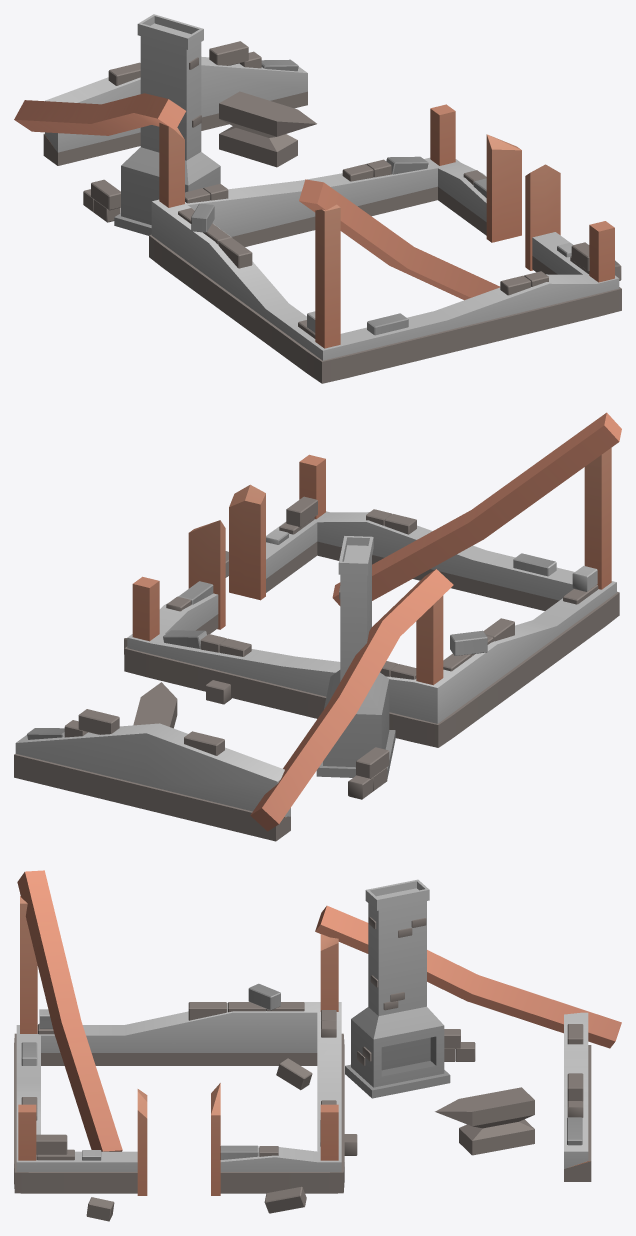
File: [OBJ]Ruina_Ferreiro.fbx
3 renders of one model, top to bottom at view 1: azimuth 30°, elevation 25°; view 2: azimuth 150°, elevation 25°; view 3: azimuth 270°, elevation 25°, orthographic. The views are drawn at different scales.
Visible parts, largest first — view 1: [OBJ]Ruina_Ferreiro; view 2: [OBJ]Ruina_Ferreiro; view 3: [OBJ]Ruina_Ferreiro.
Boxes of the visible parts, x1,y1,x2,y2 form: [OBJ]Ruina_Ferreiro: [14, 14, 621, 383]; [OBJ]Ruina_Ferreiro: [14, 412, 621, 841]; [OBJ]Ruina_Ferreiro: [14, 870, 621, 1221].
Size of the model in its own units: 239 by 137 by 374.
